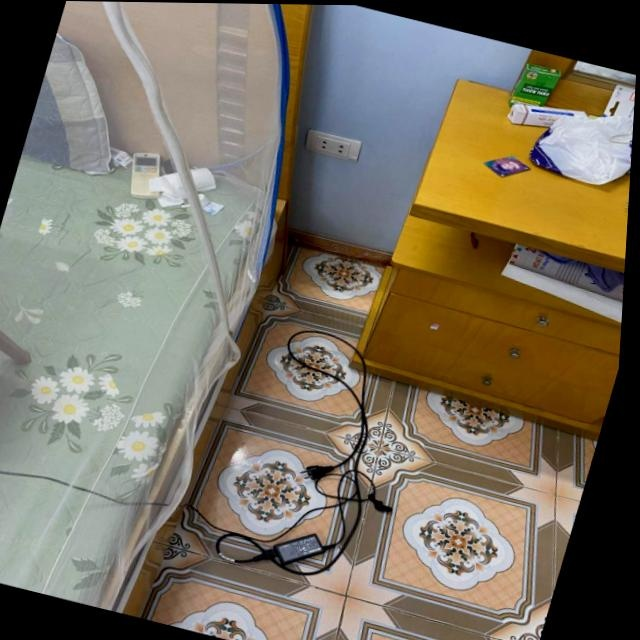outlet: (300, 127, 364, 163)
